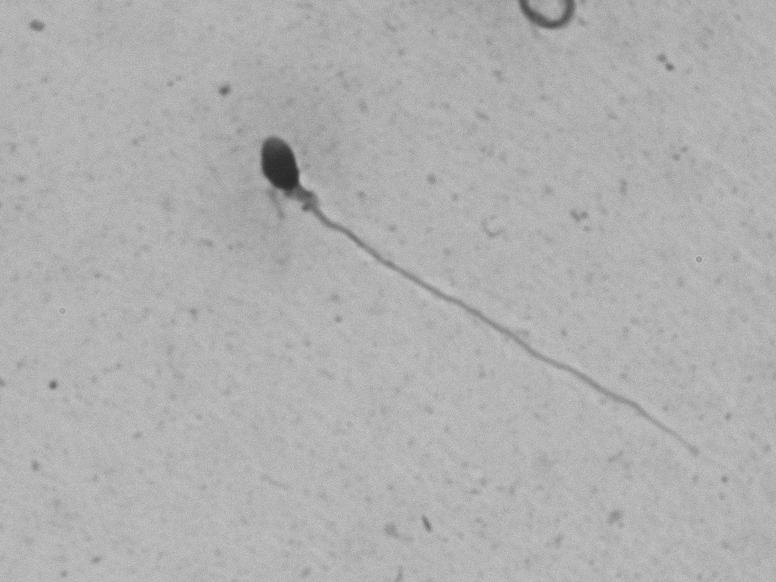Abnormal: (164, 106, 737, 477)
